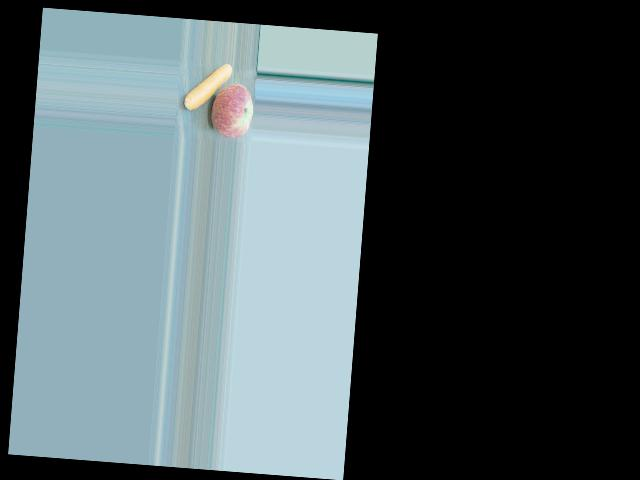carrot: (181, 60, 235, 119)
